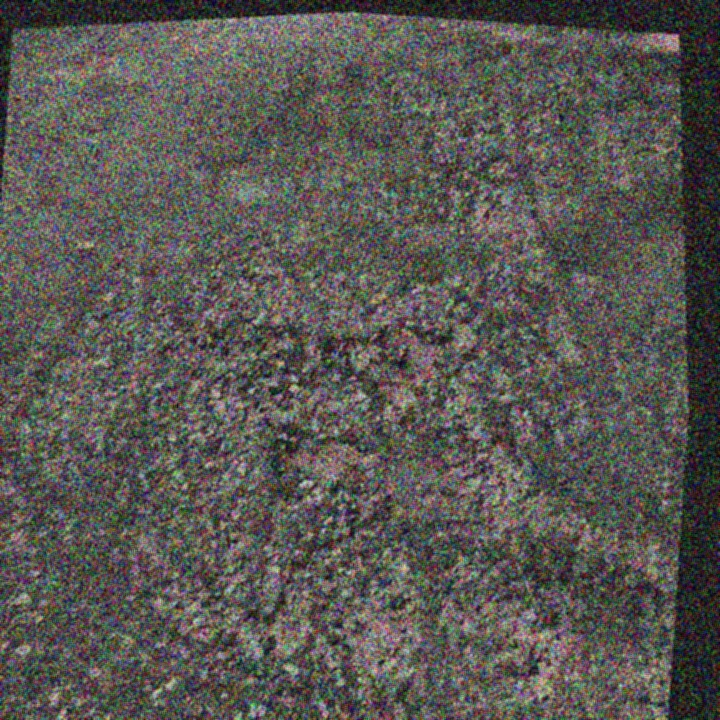pothole: (339, 312, 455, 428), (270, 419, 375, 495)
